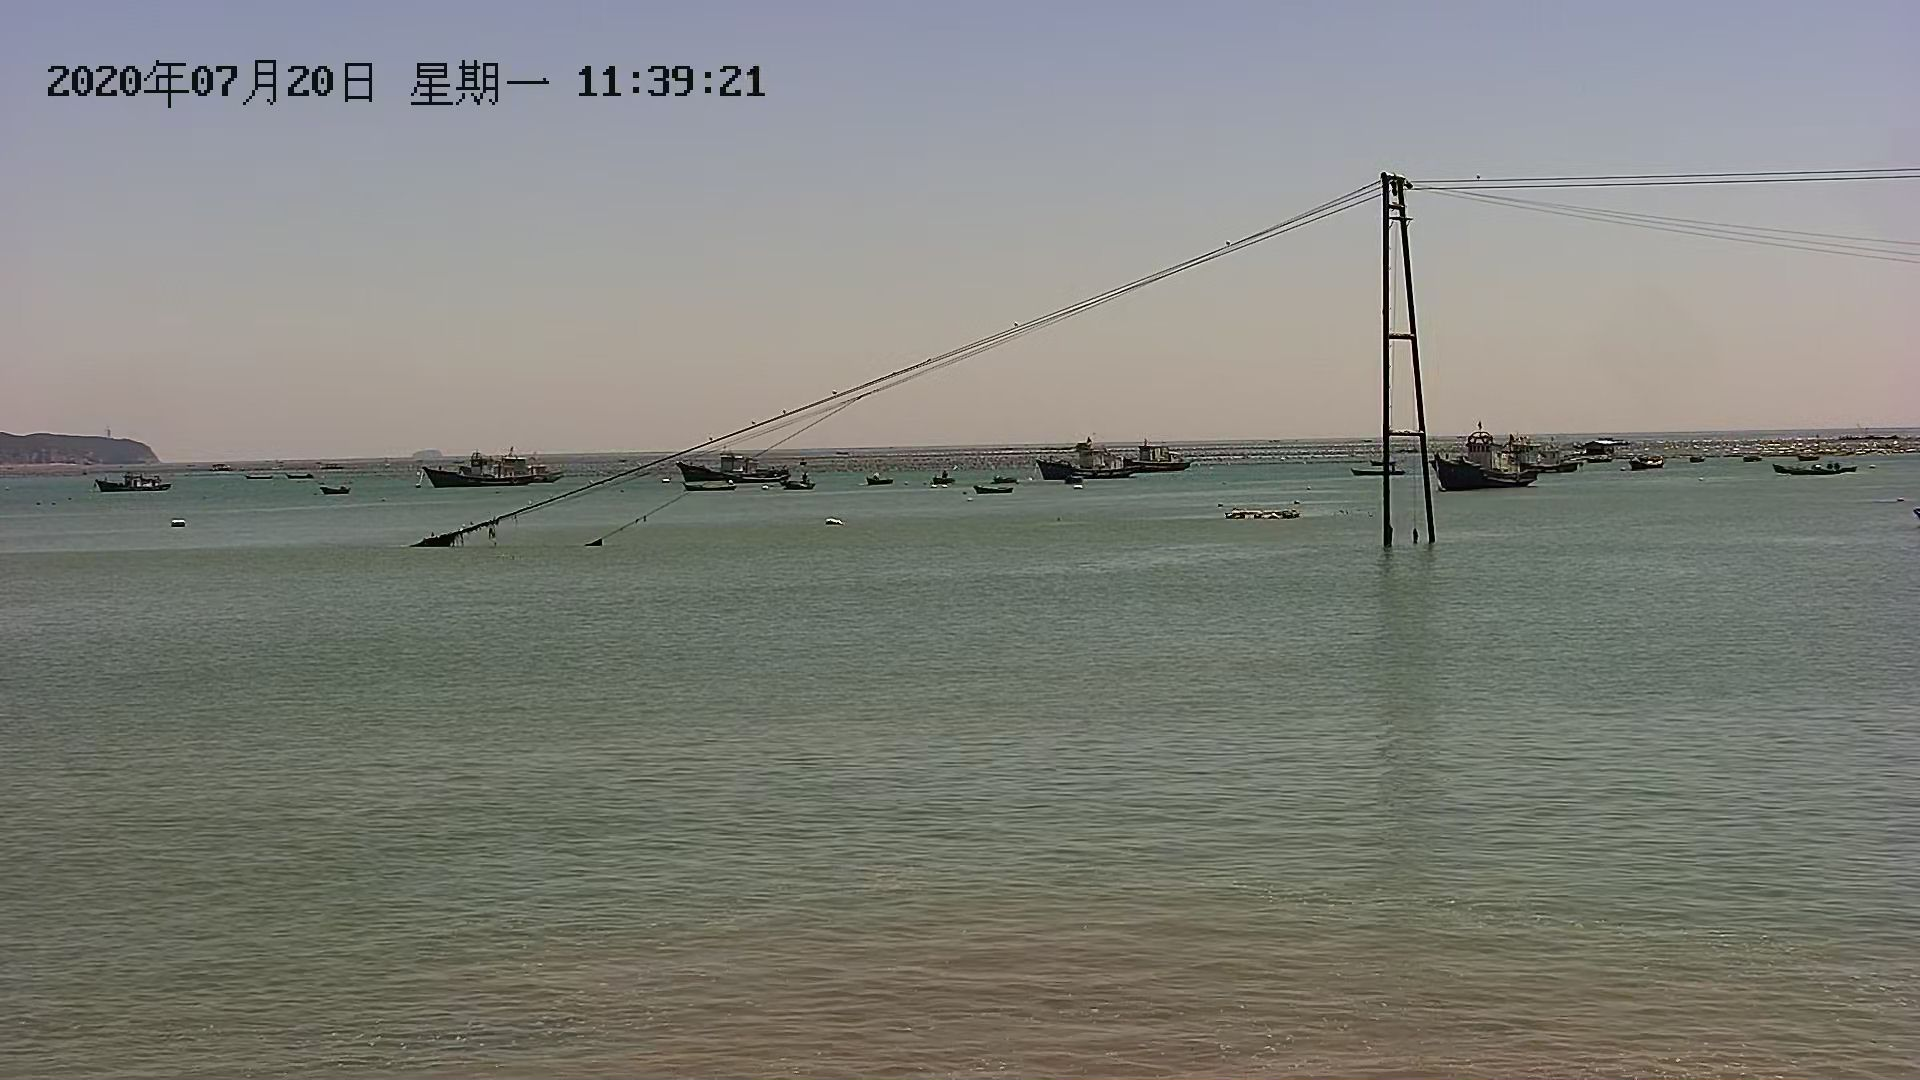boat: (92, 463, 171, 496), (1778, 459, 1862, 483)
mast: (1371, 169, 1443, 551)
ship: (1433, 430, 1543, 492), (1023, 436, 1133, 487), (678, 444, 802, 487), (426, 454, 553, 491), (1112, 434, 1195, 472)
